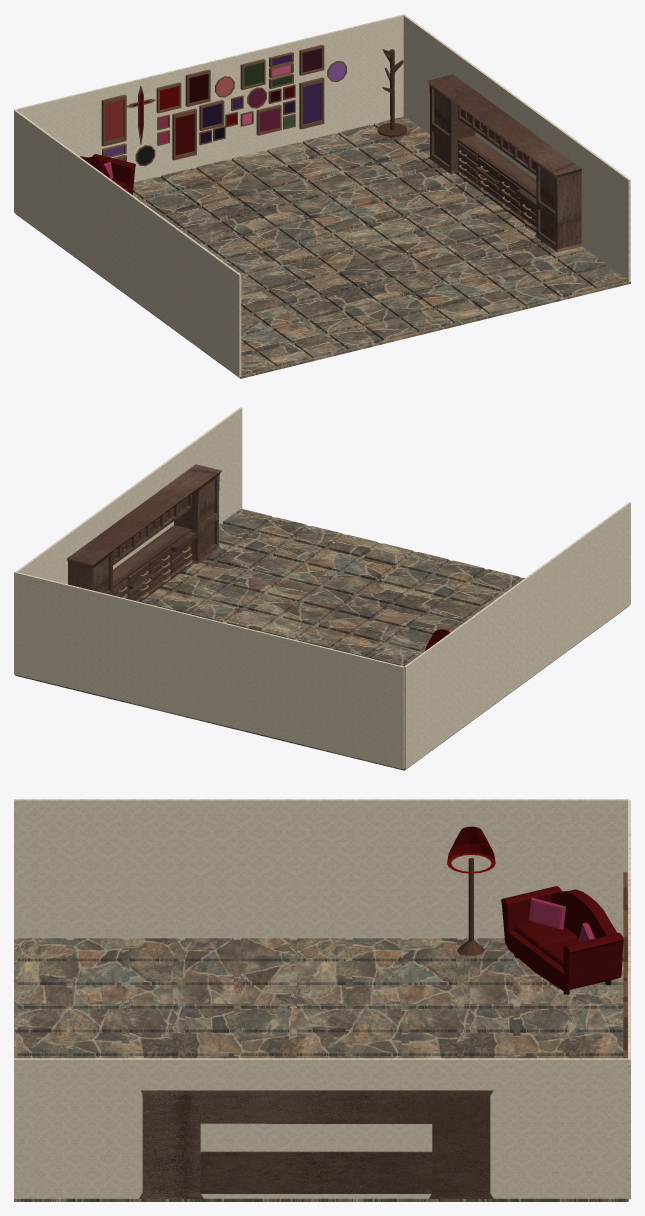
The model's file is crisantia.fbx.
3 renders of one model, top to bottom at view 1: azimuth 30°, elevation 25°; view 2: azimuth 150°, elevation 25°; view 3: azimuth 270°, elevation 25°, orthographic. The views are drawn at different scales.
Parts seen in each view (by area): view 1: piso, pared1, pared3, armario, pared2, cuadros_cuadrados, cuadroslargos, cuadros_pequeños, cuadors_circulares, cuadros_rectangulohorizontal, Circle.004, sillon; view 2: pared3, piso, pared1, armario, pared2; view 3: pared1, piso, pared2, armario, sillon, lampara, pared3, cojin2, cojin4, palo_lampara, cuadros_cuadrados.
Boxes of the visible parts, x1,y1,x2,y2 form: piso: (16,116,630,378); pared1: (14,110,241,377); pared3: (14,14,405,182); armario: (427,74,581,252); pared2: (403,15,630,281); cuadros_cuadrados: (156,44,324,135); cuadroslargos: (101,77,324,160); cuadros_pequeños: (157,84,295,145); cuadors_circulares: (135,61,346,166); cuadros_rectangulohorizontal: (102,52,293,161); Circle.004: (377,49,406,136); sillon: (80,154,135,195); pared3: (14,572,404,769); piso: (15,508,628,770); pared1: (404,502,630,768); armario: (67,464,221,602); pared2: (15,407,242,584); pared1: (14,799,628,939); piso: (14,938,628,1201); pared2: (14,1058,628,1198); armario: (139,1090,493,1198); sillon: (501,886,623,991); lampara: (447,826,495,873); pared3: (628,800,630,1199); cojin2: (513,922,577,950); cojin4: (528,897,565,929); palo_lampara: (457,858,484,955); cuadros_cuadrados: (623,910,627,1050).
Size of the model in its own units: 2012 by 510 by 2008.
6 materials, 6 textured.
